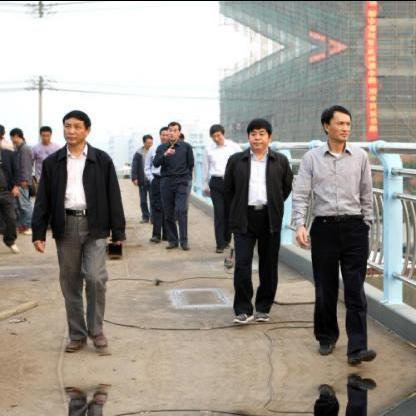No Helmet: (317, 100, 353, 144), (58, 106, 92, 144), (242, 113, 274, 151), (207, 120, 226, 144), (166, 116, 182, 140), (35, 122, 51, 141), (9, 125, 24, 144), (139, 128, 153, 147), (155, 122, 167, 141)
